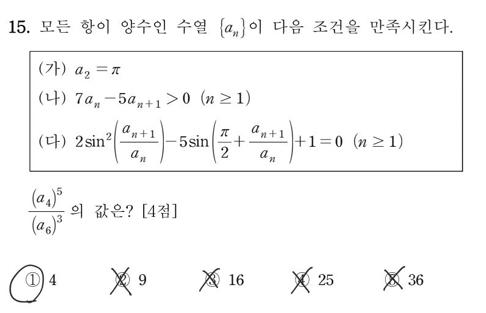1: (7, 262, 47, 305)
paper: (382, 270, 400, 290), (292, 270, 310, 290), (203, 270, 221, 290), (113, 271, 131, 291), (23, 271, 41, 291)
